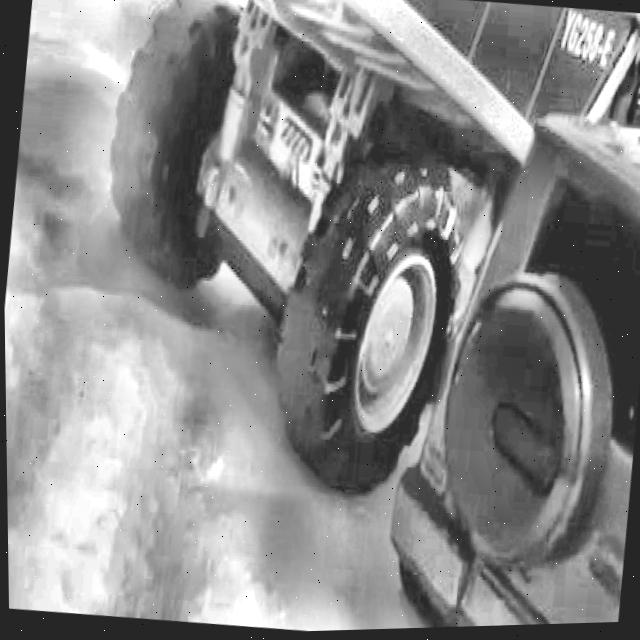dump_truck: (0, 0, 460, 481)
light_vehicle: (400, 91, 640, 631)
